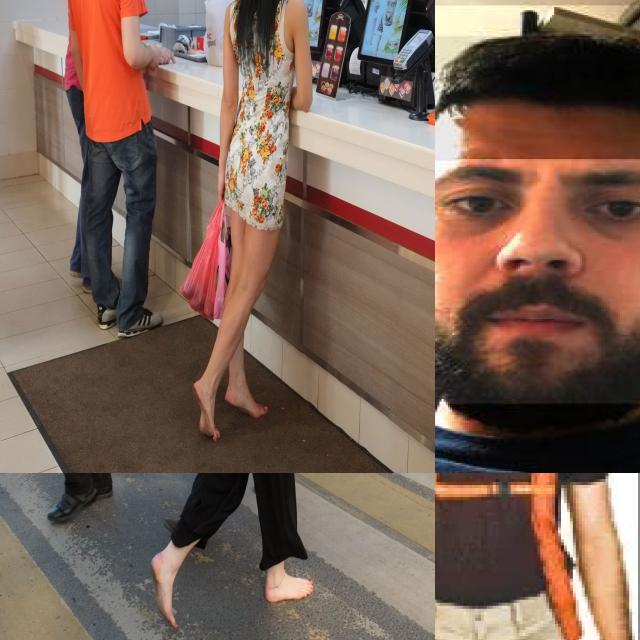Barefoots: (151, 553, 178, 629), (193, 380, 220, 442), (225, 386, 268, 419), (265, 574, 314, 602)
Harness: (435, 473, 582, 640)
No_Glasses: (435, 152, 640, 245)
face_nomask: (435, 159, 640, 404)
head_nohelmet: (435, 35, 640, 162)
person: (435, 5, 640, 473)
